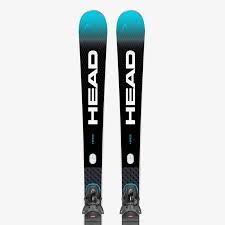skis: (78, 9, 146, 225)
